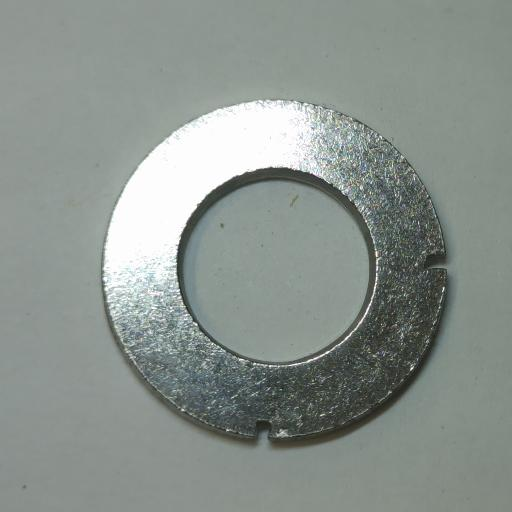burr: (424, 254, 447, 270), (254, 420, 272, 439)
